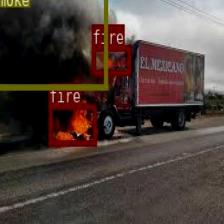fire: (47, 104, 96, 146), (90, 44, 130, 74)
smoke: (0, 0, 107, 89)
